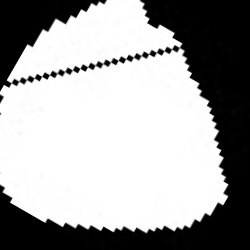spot: (1, 1, 228, 231)
